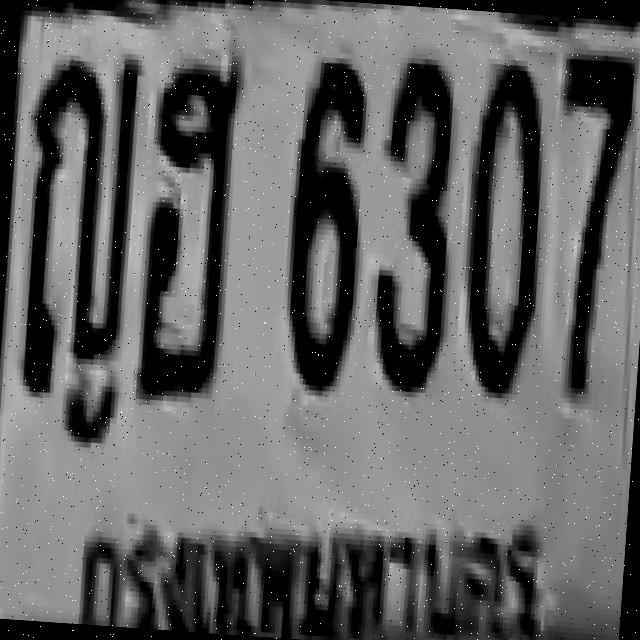0: (456, 55, 552, 397)
22YorYing: (12, 48, 142, 398), (15, 50, 142, 348), (13, 123, 138, 400), (19, 50, 140, 317)
3: (363, 51, 462, 394)
53HorNokHook: (130, 52, 243, 402)
6: (278, 50, 370, 392)
7: (542, 48, 636, 354), (548, 48, 636, 270)
Bangkok: (67, 498, 553, 640)
